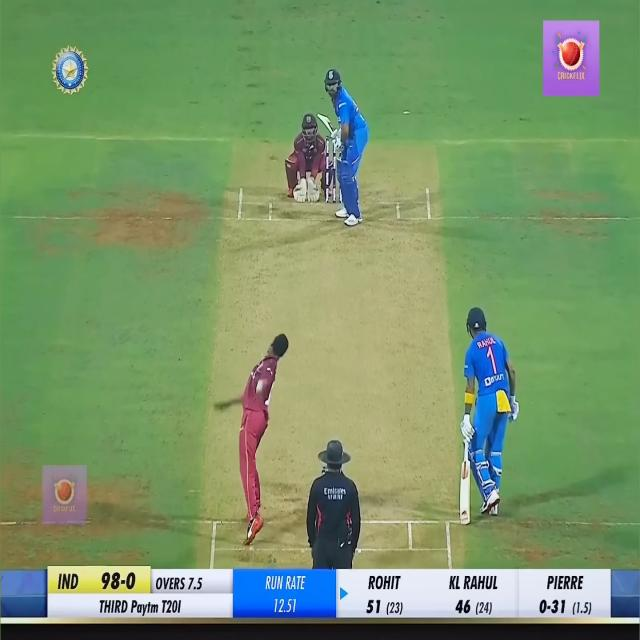fully_visible: (130, 594, 160, 621)
